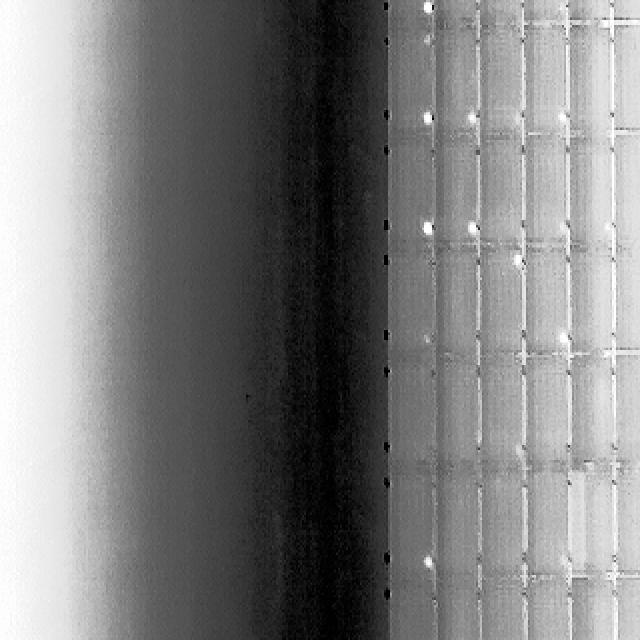Hotspots: (496, 250, 522, 290), (417, 550, 434, 576), (554, 328, 572, 351), (465, 108, 481, 132), (556, 551, 572, 575), (418, 217, 434, 240), (418, 109, 434, 132), (507, 110, 522, 134), (464, 216, 480, 238), (556, 108, 570, 132), (600, 216, 614, 239), (506, 250, 522, 270), (418, 0, 432, 20), (556, 218, 567, 236)
PV-modules: (434, 359, 483, 475), (524, 356, 572, 472), (429, 245, 478, 358), (478, 356, 524, 474), (566, 358, 614, 470), (430, 474, 478, 586), (388, 363, 436, 474), (565, 136, 612, 249), (568, 470, 616, 580), (524, 136, 571, 248), (471, 140, 518, 252), (524, 245, 572, 354), (429, 29, 477, 138), (566, 24, 612, 137), (388, 139, 434, 251), (523, 26, 569, 138), (568, 250, 614, 361), (478, 27, 524, 138), (430, 140, 476, 251), (388, 248, 434, 358), (478, 244, 524, 354), (389, 470, 434, 582), (527, 473, 573, 581), (478, 474, 524, 582), (388, 32, 434, 138), (612, 133, 640, 245), (612, 22, 640, 130), (477, 580, 527, 640), (566, 578, 614, 640), (526, 579, 574, 640), (614, 355, 640, 465), (614, 468, 640, 578), (614, 240, 640, 350), (432, 584, 482, 640), (389, 586, 436, 640), (614, 578, 640, 638), (388, 0, 432, 35), (524, 0, 570, 28), (472, 0, 516, 28), (428, 0, 476, 25), (566, 0, 610, 20), (606, 0, 640, 20)
